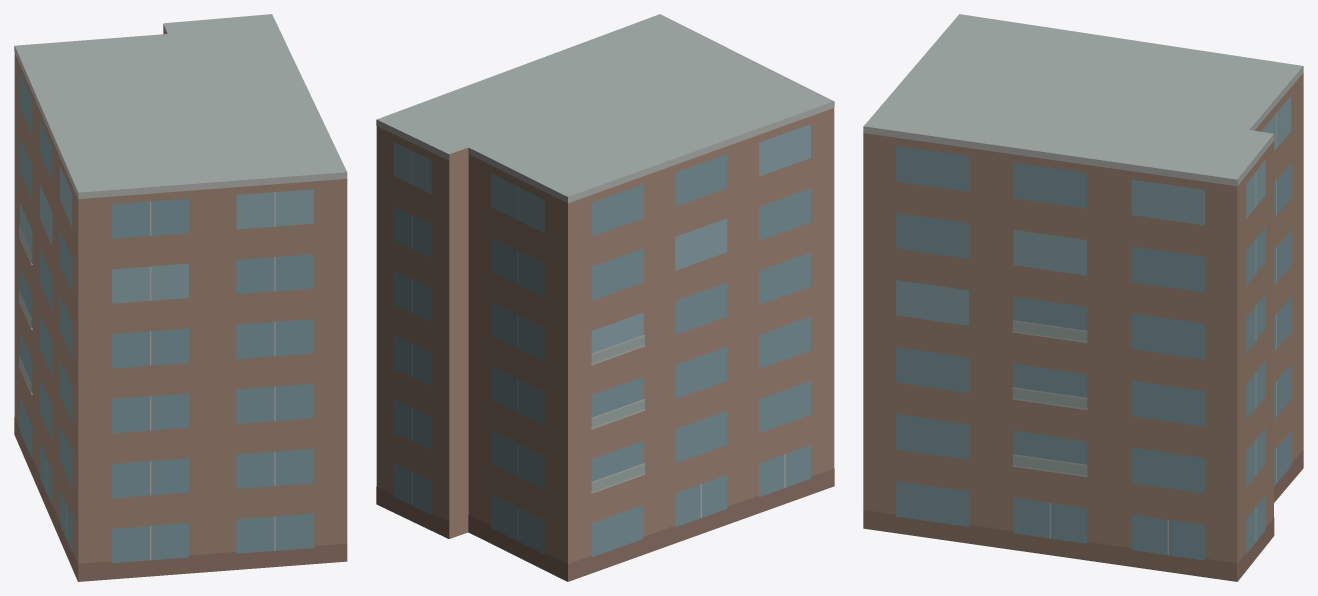
Rendered from survey-upis-32886758.glb.
3 renders of one model, left to right at view 1: azimuth 30°, elevation 25°; view 2: azimuth 150°, elevation 25°; view 3: azimuth 270°, elevation 25°, orthographic. The views are drawn at different scales.
Parts seen in each view (by area): view 1: survey-upis-32886758.tmp; view 2: survey-upis-32886758.tmp; view 3: survey-upis-32886758.tmp.
Boxes of the visible parts, x1,y1,x2,y2 form: survey-upis-32886758.tmp: (14,14,347,581); survey-upis-32886758.tmp: (376,14,834,581); survey-upis-32886758.tmp: (863,14,1303,581).
Size of the model in its own units: 12.91 by 14.6 by 14.49.
